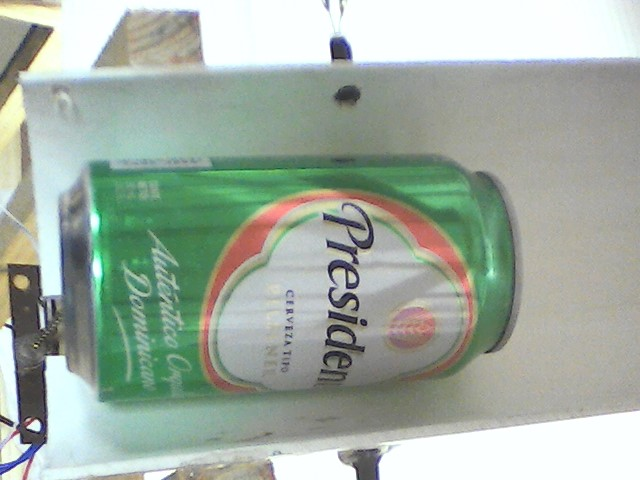lata: (55, 148, 532, 409)
